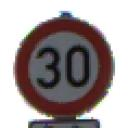speed_limit_30: (12, 11, 117, 122)
